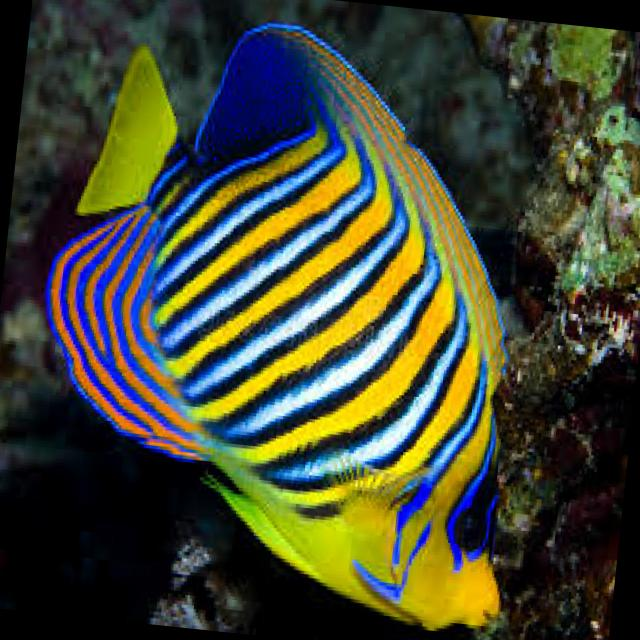AngelFish: (16, 1, 558, 632)
